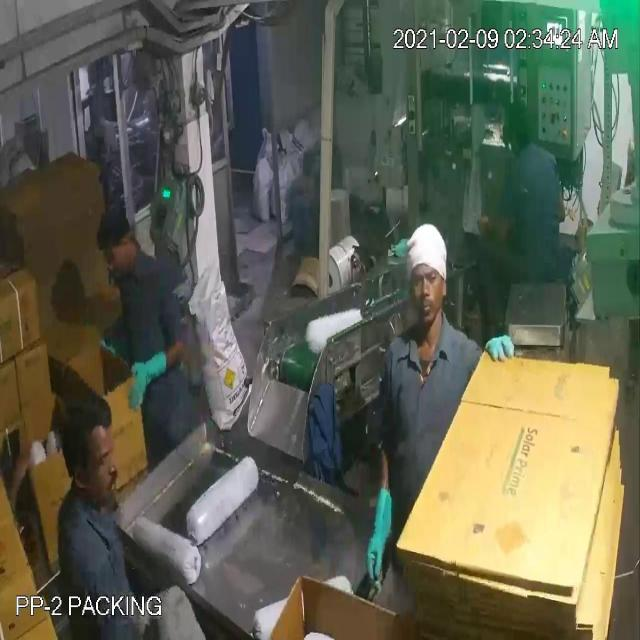Gloves: (44, 46, 501, 531)
